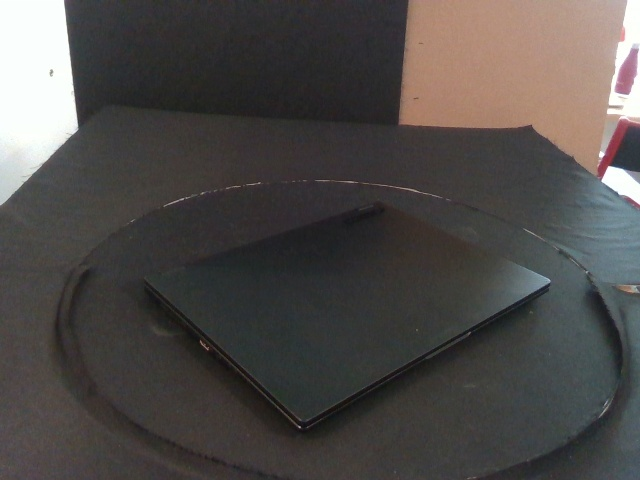laptop: (143, 201, 551, 434)
